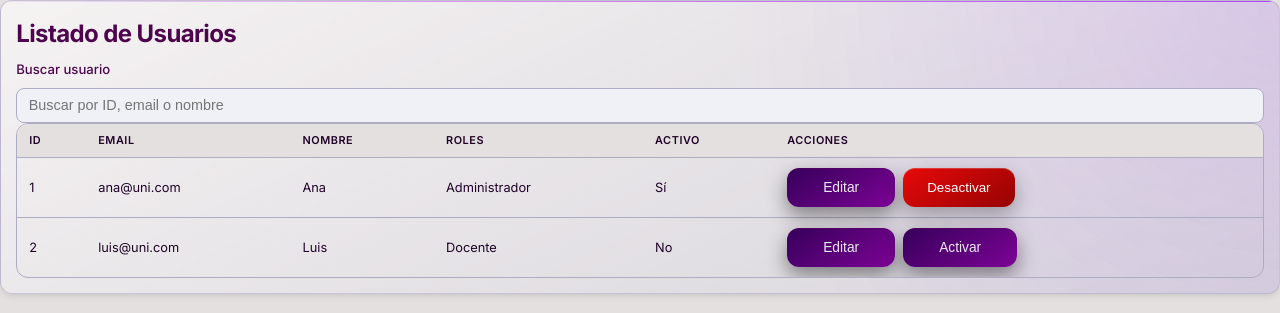
Scenario: UsersPageFilter › filtra usuarios por texto (id, nombre o email)
The width and height of the screenshot is (1280, 313).
Expected: the text "Ana" is shown, [290,158,434,218]
Expected: the text "Luis" is shown, [290,218,434,277]
Type "ana@uni.com" into the field labelled "Buscar usuario".
click(640, 105); type("ana@uni.com")  # box [16,88,1264,122]
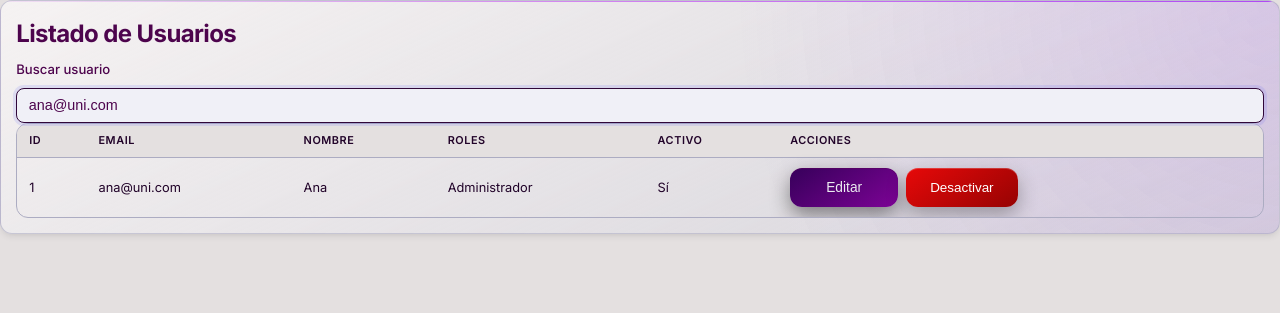
Expected: the text "Ana" is shown, [292,158,436,217]
Result: the text "luis" is gone
